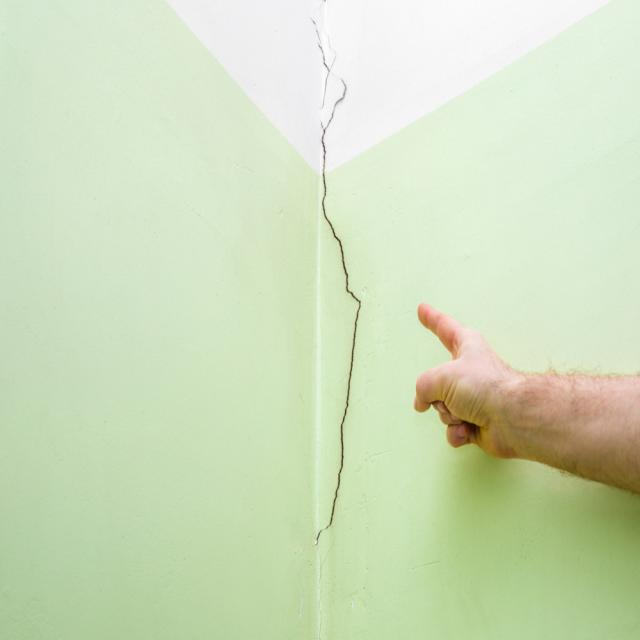Crack: (308, 14, 361, 543)
